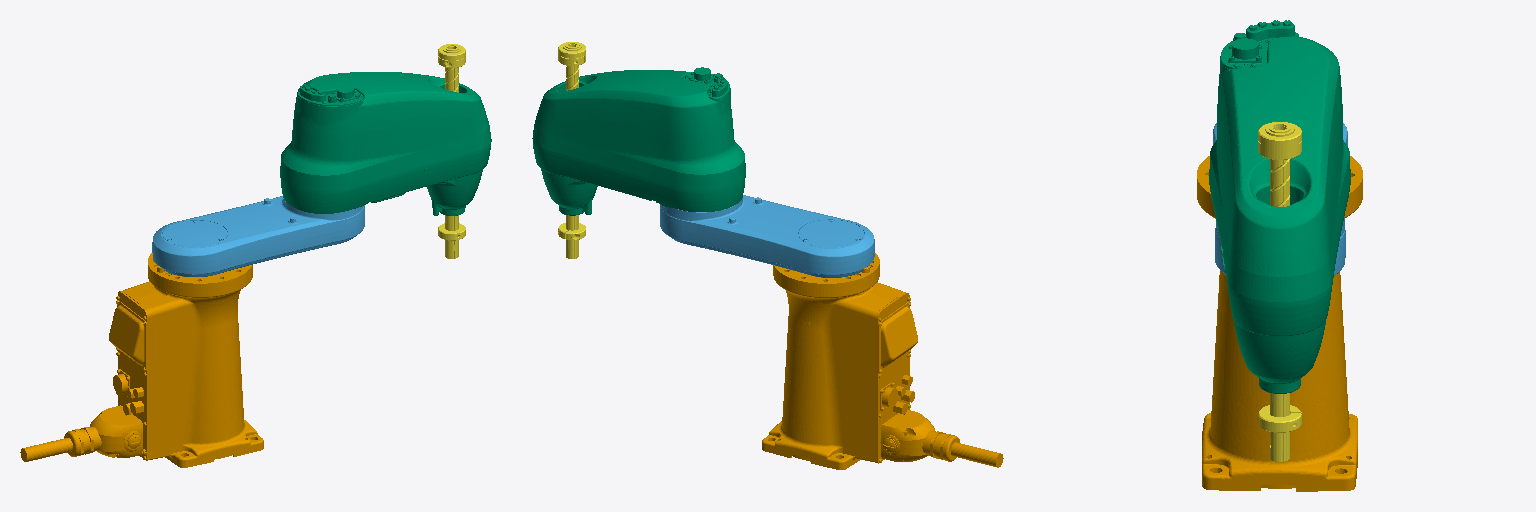
URDF robot description (scara):
<?xml version="1.0"?>

<robot name="scara">

  <link name="base_link">
    <visual>
      <geometry>
        <mesh filename="package://scara_HS-045/meshes/base_link.dae"/>
      </geometry>      
    </visual>
  </link>

  <link name="link_1">
  	<visual>
      <geometry>
        <mesh filename="package://scara_HS-045/meshes/link1.dae"/>
      </geometry>      
    </visual>
  </link>

  <link name="link_2">
  	<visual>
      <geometry>
        <mesh filename="package://scara_HS-045/meshes/link2.dae"/>
      </geometry>      
    </visual>
  </link>

  <link name="link_3">
  	<visual>
      <geometry>
        <mesh filename="package://scara_HS-045/meshes/link3.dae"/>
      </geometry>      
    </visual>
  </link>
  
  <link name="tool" />
  <link name="end" />

  <joint name="joint1" type="revolute">
    <parent link="base_link"/>
    <child link="link_1"/>
    <origin xyz="0 0 0.301"/>
    <axis xyz="0 0 1" />
    <limit effort="300" velocity="0.1" lower="-1.57" upper="1.57"/>
  </joint>

  <joint name="joint2" type="revolute">
    <parent link="link_1"/>
    <child link="link_2"/>
    <origin xyz="0.225 0 0.100"/>
    <axis xyz="0 0 1" />
    <limit effort="300" velocity="0.1" lower="-1" upper="1"/>
  </joint>

  <joint name="joint3" type="prismatic">
    <parent link="link_2"/>
    <child link="link_3"/>
    <origin xyz="0.225 0 0"/>
    <axis xyz="0 0 1" />
    <limit effort="300" velocity="0.1" lower="-0.205" upper="0"/>
  </joint>

  <joint name="joint4" type="revolute">
    <parent link="link_3"/>
    <child link="end"/>
    <origin xyz="0 0 -0.194"/>
    <axis xyz="0 0 1" />
    <limit effort="300" velocity="0.1" lower="-4.71" upper="4.71"/>
    
  </joint>

  <joint name="tool_to_link3" type="fixed">
    <parent link="end"/>
    <child link="tool"/>
    <origin xyz="0 0 0"/>
   
  </joint>    

</robot>

--- Facts derived from the render (not from the file) ---
3 views of the same robot in one strip: view 1: azimuth 30°, elevation 25°; view 2: azimuth 150°, elevation 25°; view 3: azimuth 270°, elevation 25° (orthographic).
Model scara with 6 links and 5 joints (3 revolute, 1 prismatic, 1 fixed), rooted at base_link, posed all joints at 0.
Visible links, largest first — view 1: base_link, link_2, link_1, link_3; view 2: base_link, link_2, link_1, link_3; view 3: link_2, base_link, link_3, link_1.
Link boxes in pixels (x1,y1,x2,y2): base_link: (20,253,263,467); link_2: (280,72,491,215); link_1: (152,196,364,276); link_3: (438,44,465,258); base_link: (762,253,1003,469); link_2: (532,67,745,215); link_1: (660,195,874,277); link_3: (558,42,585,258); link_2: (1209,20,1350,393); base_link: (1197,156,1362,491); link_3: (1258,122,1301,461); link_1: (1213,123,1347,275).
Size in the robot's own frame: 0.8078 by 0.16 by 0.5568 metres.
4 mesh visuals loaded from 4 distinct referenced files (4 Collada DAE).